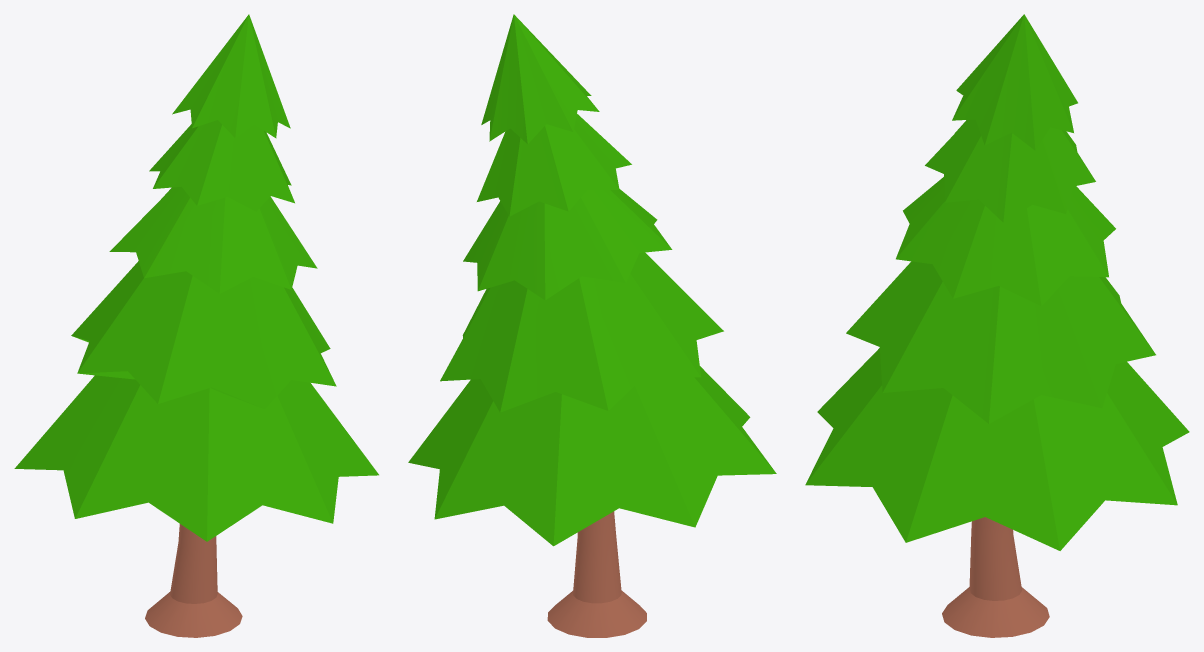
Rendered from object_100_lev1.glb.
The picture shows the model from 3 angles, left to right: view 1: azimuth 30°, elevation 25°; view 2: azimuth 150°, elevation 25°; view 3: azimuth 270°, elevation 25°; orthographic projection. The views are drawn at different scales.
Parts seen in each view (by area): view 1: object_100_lev1; view 2: object_100_lev1; view 3: object_100_lev1.
Boxes of the visible parts, x1,y1,x2,y2 form: object_100_lev1: (14,14,378,637); object_100_lev1: (408,14,776,637); object_100_lev1: (805,14,1189,637).
Bounding box in the file's own units: 0.8104 × 1.49 × 0.812.
Materials: 1 (1 with a texture image).
